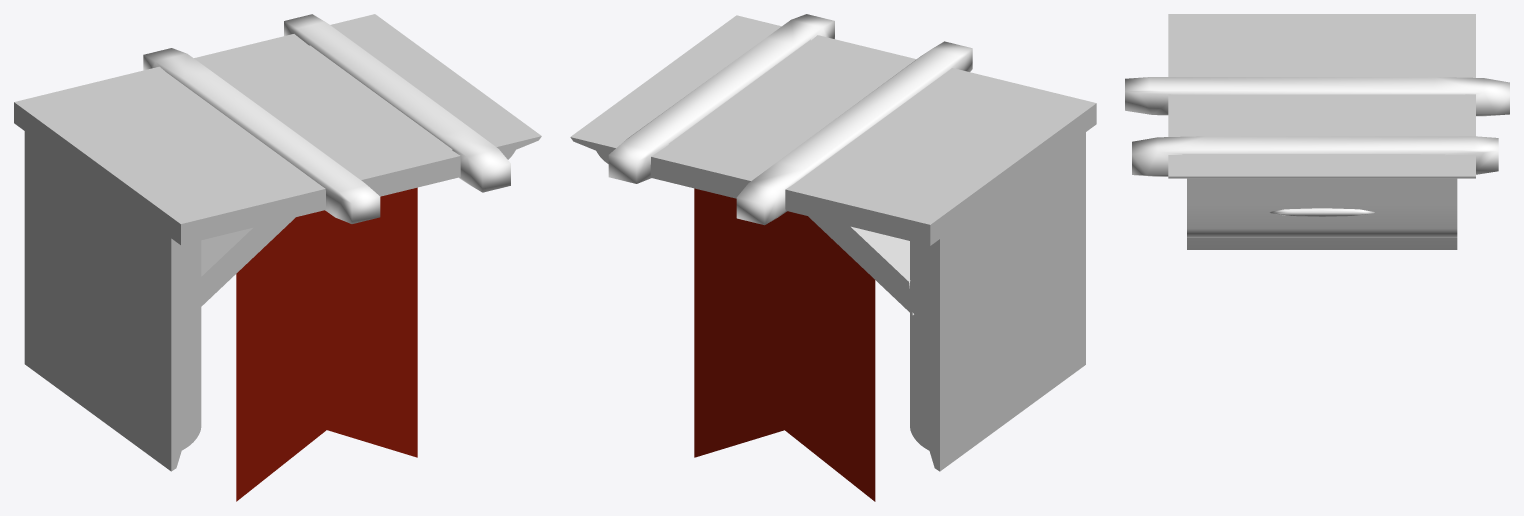
Rendered from banner.glb.
The picture shows the model from 3 angles, left to right: view 1: azimuth 30°, elevation 25°; view 2: azimuth 150°, elevation 25°; view 3: azimuth 270°, elevation 25°; orthographic projection. The views are drawn at different scales.
Visible parts, largest first — view 1: Banner_1; view 2: Banner_1; view 3: Banner_1.
Boxes of the visible parts, x1,y1,x2,y2 form: Banner_1: (14,14,541,501); Banner_1: (570,14,1096,501); Banner_1: (1125,14,1509,249).
Bounding box in the file's own units: 1 × 1 × 1.
